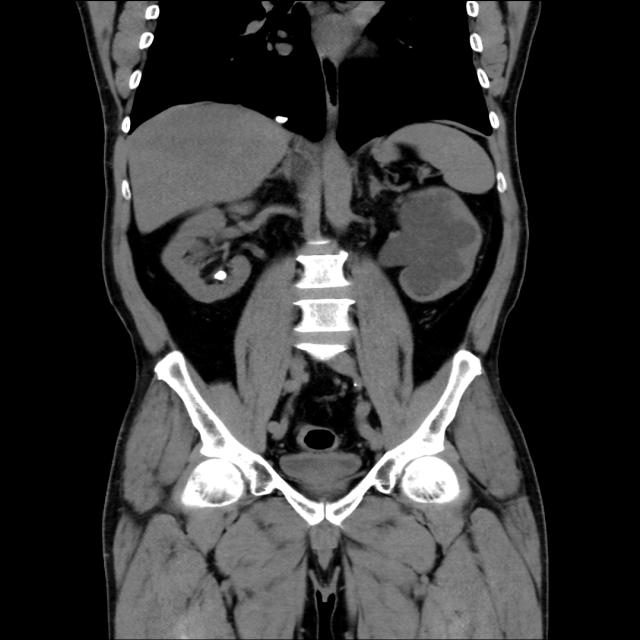kidneystone: (212, 269, 227, 282)
